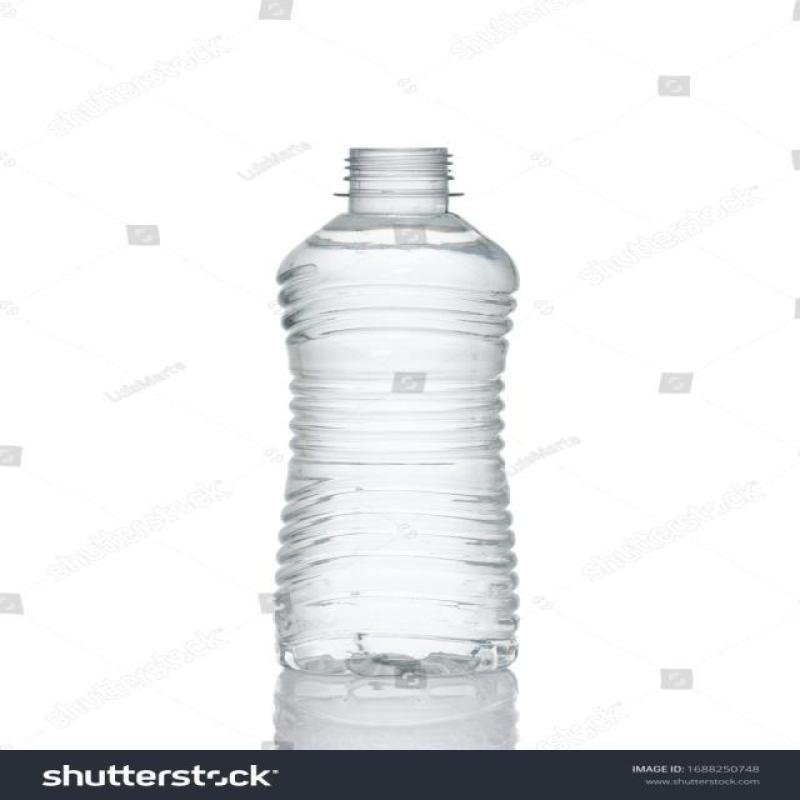botella: (278, 142, 524, 683)
